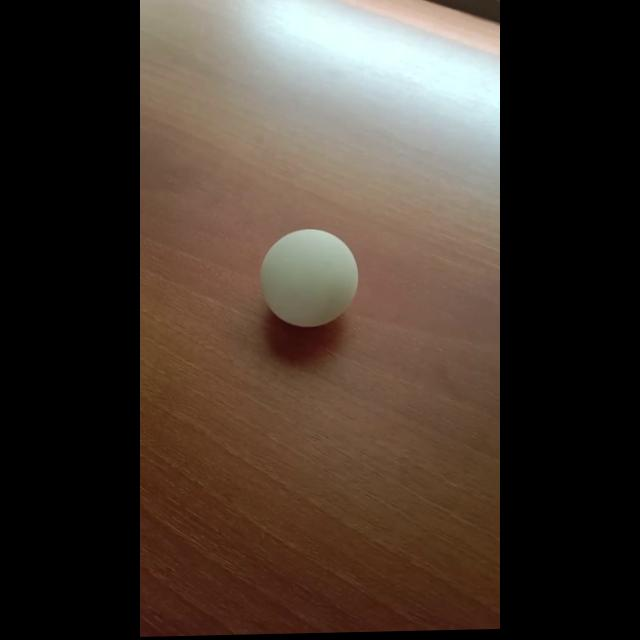white ball: (260, 227, 358, 329)
